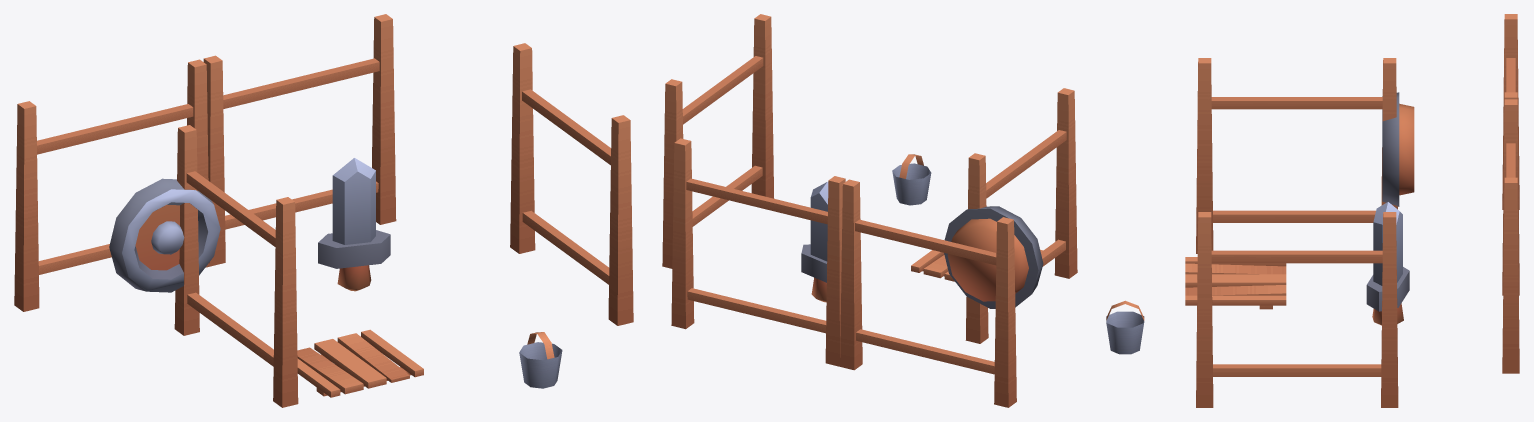
Rendered from bld_sparring_ring_2x2.glb.
3 views of the same model, side by side, from view 1: azimuth 30°, elevation 25°; view 2: azimuth 150°, elevation 25°; view 3: azimuth 270°, elevation 25° (orthographic). The views are drawn at different scales.
Parts seen in each view (by area): view 1: fence4, fence3, fence2, fence, shield-round, weapon-sword, floor-old, bucket; view 2: fence, fence2, fence4, fence3, shield-round, weapon-sword, bucket, floor-old; view 3: fence4, fence3, fence2, floor-old, shield-round, weapon-sword, fence, bucket.
Part boxes in pixels (left/top/right/bottom): fence4: left=510, top=43, right=633, bottom=325; fence3: left=174, top=125, right=298, bottom=407; fence2: left=203, top=14, right=396, bottom=266; fence: left=14, top=59, right=209, bottom=311; shield-round: left=109, top=178, right=220, bottom=292; weapon-sword: left=318, top=158, right=390, bottom=291; floor-old: left=297, top=329, right=423, bottom=397; bucket: left=519, top=332, right=562, bottom=388; fence: left=840, top=179, right=1016, bottom=407; fence2: left=671, top=138, right=845, bottom=366; fence4: left=662, top=14, right=774, bottom=268; fence3: left=965, top=88, right=1077, bottom=343; shield-round: left=944, top=206, right=1043, bottom=308; weapon-sword: left=801, top=182, right=828, bottom=302; bucket: left=892, top=154, right=931, bottom=205; floor-old: left=911, top=249, right=1043, bottom=281; fence4: left=1196, top=212, right=1398, bottom=407; fence3: left=1196, top=58, right=1397, bottom=253; fence2: left=1502, top=99, right=1519, bottom=373; floor-old: left=1185, top=257, right=1286, bottom=309; shield-round: left=1382, top=92, right=1414, bottom=206; weapon-sword: left=1366, top=202, right=1409, bottom=325; fence: left=1502, top=14, right=1519, bottom=278; bucket: left=1106, top=300, right=1144, bottom=354.
Bounding box in the file's own units: 2.4 × 1.03 × 2.04.
5 materials, 5 textured.
